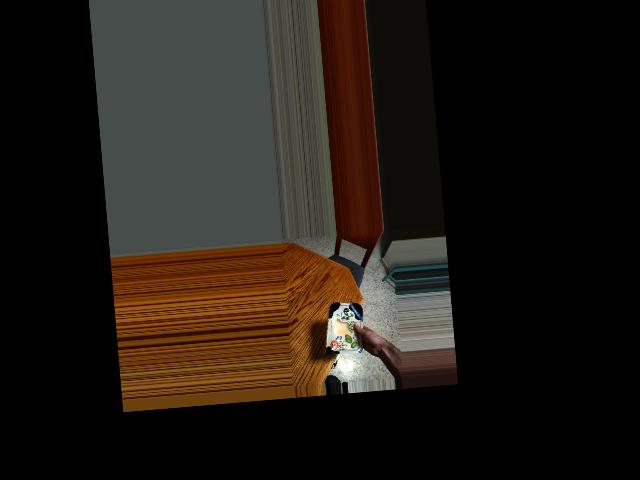cheese: (325, 302, 365, 351)
